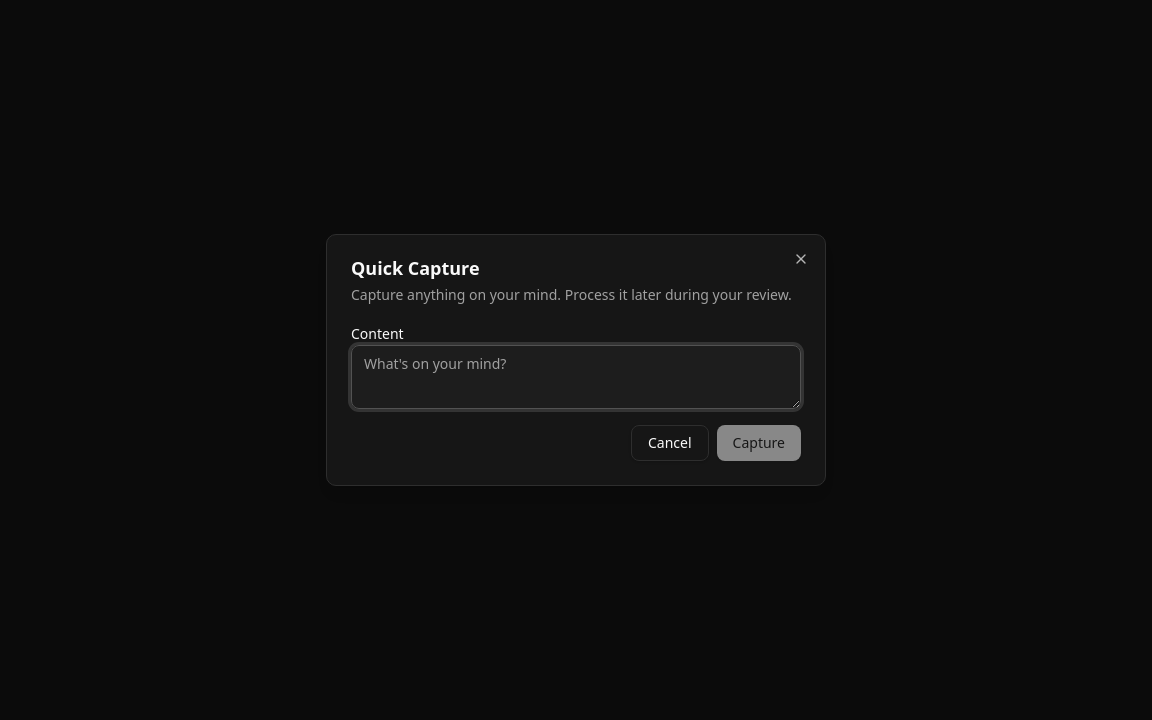
UniversalCapture › form submission › disables textarea while submitting
The width and height of the screenshot is (1152, 720).
Type "Test" into the text box with placeholder "What's on your mind?".
click(576, 377); type("Test")  # box [351,345,801,409]
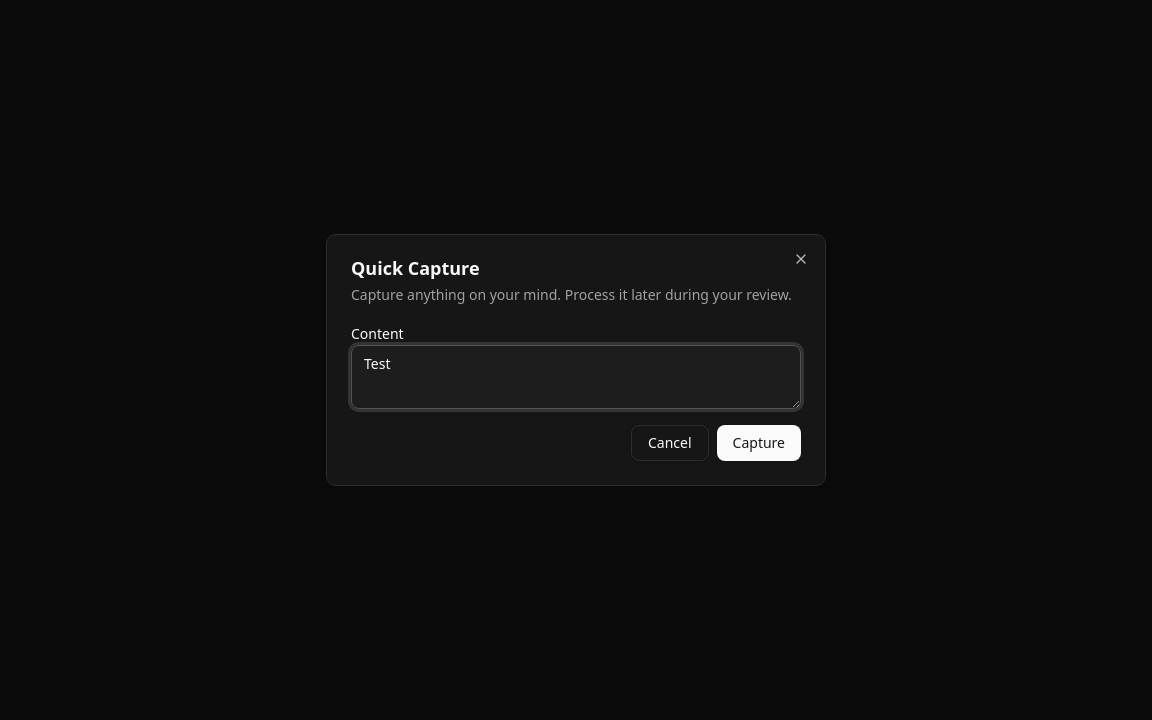
Click the button "Capture".
click(759, 443)  # box [717,425,801,461]
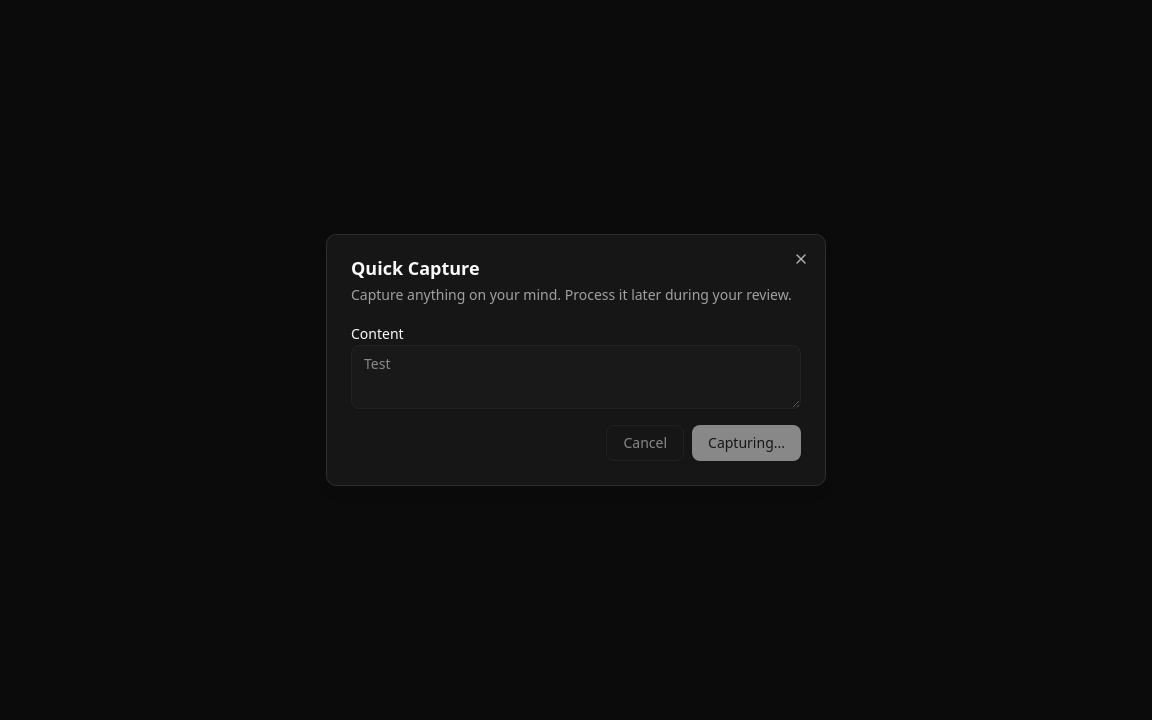
Now the text box with placeholder "What's on your mind?" is disabled, box [351,345,801,409]
